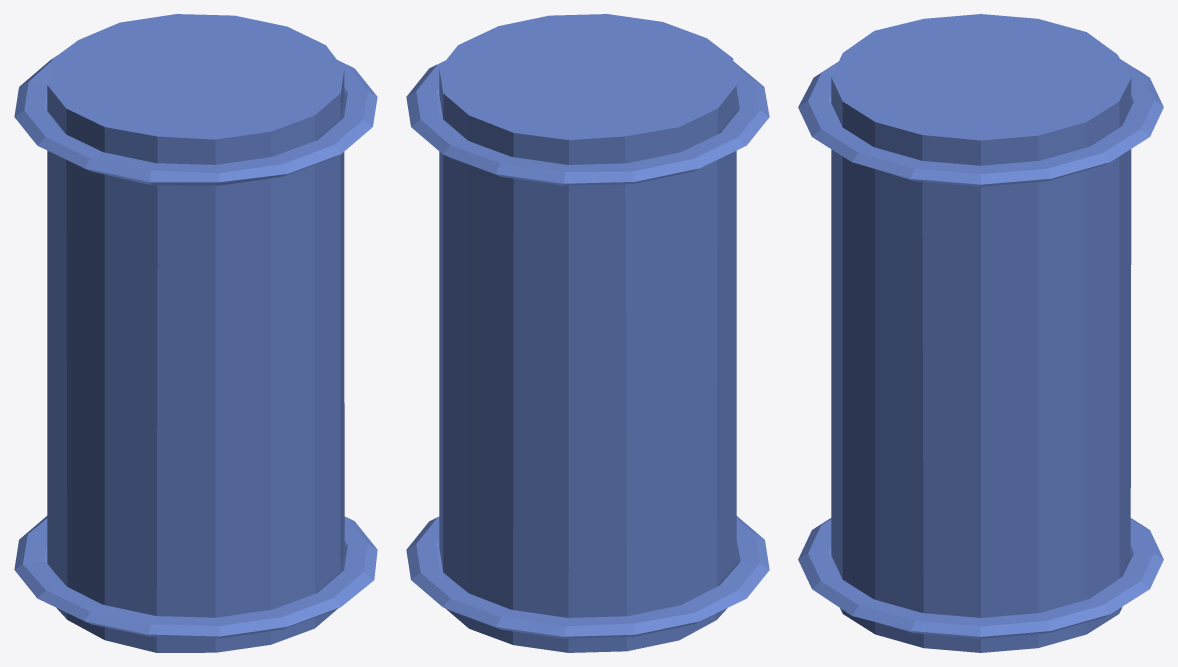
File: barrel_plastic.glb
3 views of the same model, side by side, from view 1: azimuth 30°, elevation 25°; view 2: azimuth 150°, elevation 25°; view 3: azimuth 270°, elevation 25° (orthographic).
Parts seen in each view (by area): view 1: barrel_plastic; view 2: barrel_plastic; view 3: barrel_plastic.
Part boxes in pixels (x1,y1,x2,y2): barrel_plastic: (14, 14, 377, 652); barrel_plastic: (406, 14, 769, 652); barrel_plastic: (798, 14, 1163, 652).
Size of the model in its own units: 0.55 by 0.8548 by 0.55.
